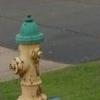Hydrant: (8, 9, 68, 100)
